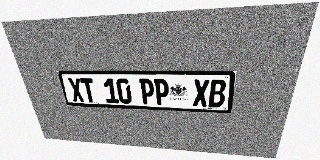0: (116, 78, 132, 104)
1: (102, 78, 119, 103)
B: (208, 79, 227, 107)
P: (139, 79, 155, 105), (154, 79, 169, 105)
T: (80, 78, 97, 102)
X: (193, 79, 210, 107), (67, 78, 85, 102)
